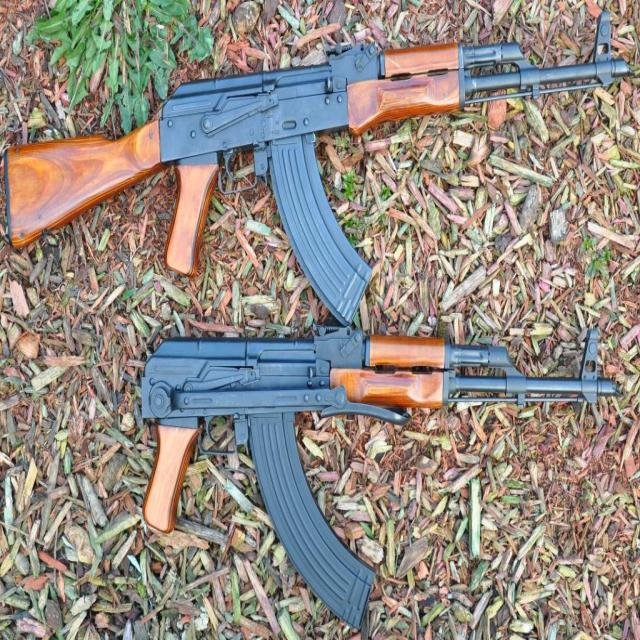firearm: (5, 13, 629, 322), (141, 332, 615, 630)
